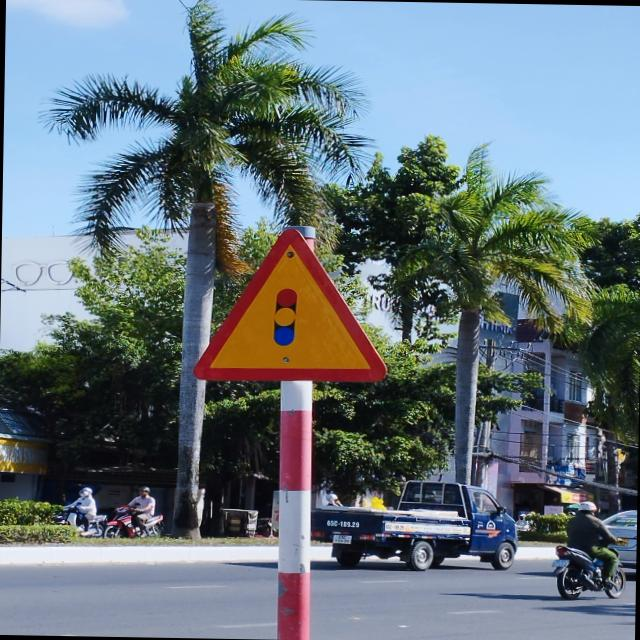Duong_Co_Go_Giam_Toc: (192, 224, 391, 383)
